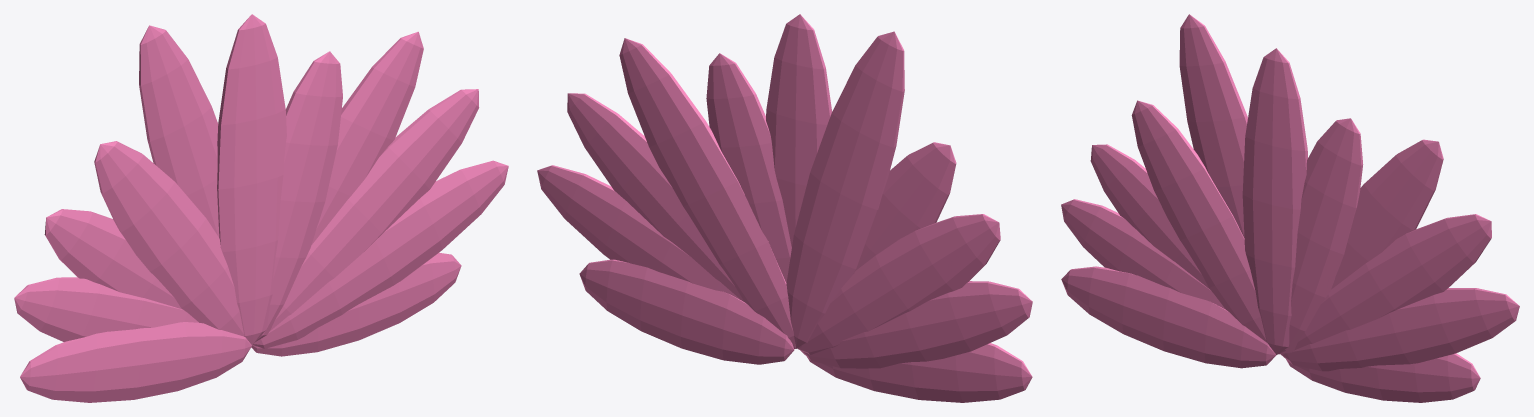
Rendered from FeatherFan_FeatherLight.fbx.
3 renders of one model, left to right at view 1: azimuth 30°, elevation 25°; view 2: azimuth 150°, elevation 25°; view 3: azimuth 330°, elevation 25°, orthographic. The views are drawn at different scales.
Parts seen in each view (by area): view 1: Feather0.001; view 2: Feather0.001; view 3: Feather0.001.
Boxes of the visible parts, bbox=[...] form: Feather0.001: bbox=[14, 14, 508, 402]; Feather0.001: bbox=[537, 14, 1032, 402]; Feather0.001: bbox=[1061, 14, 1519, 402].
Bounding box in the file's own units: 2956 × 2099 × 158.
